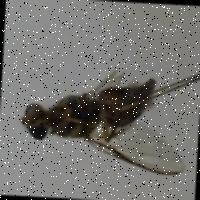Oriental-fruit-fly: (8, 64, 195, 182)
